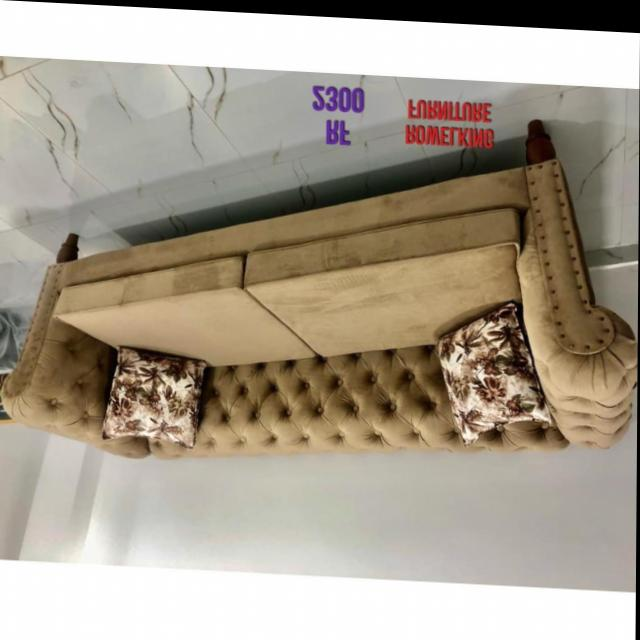Sofa: (1, 95, 639, 479)
